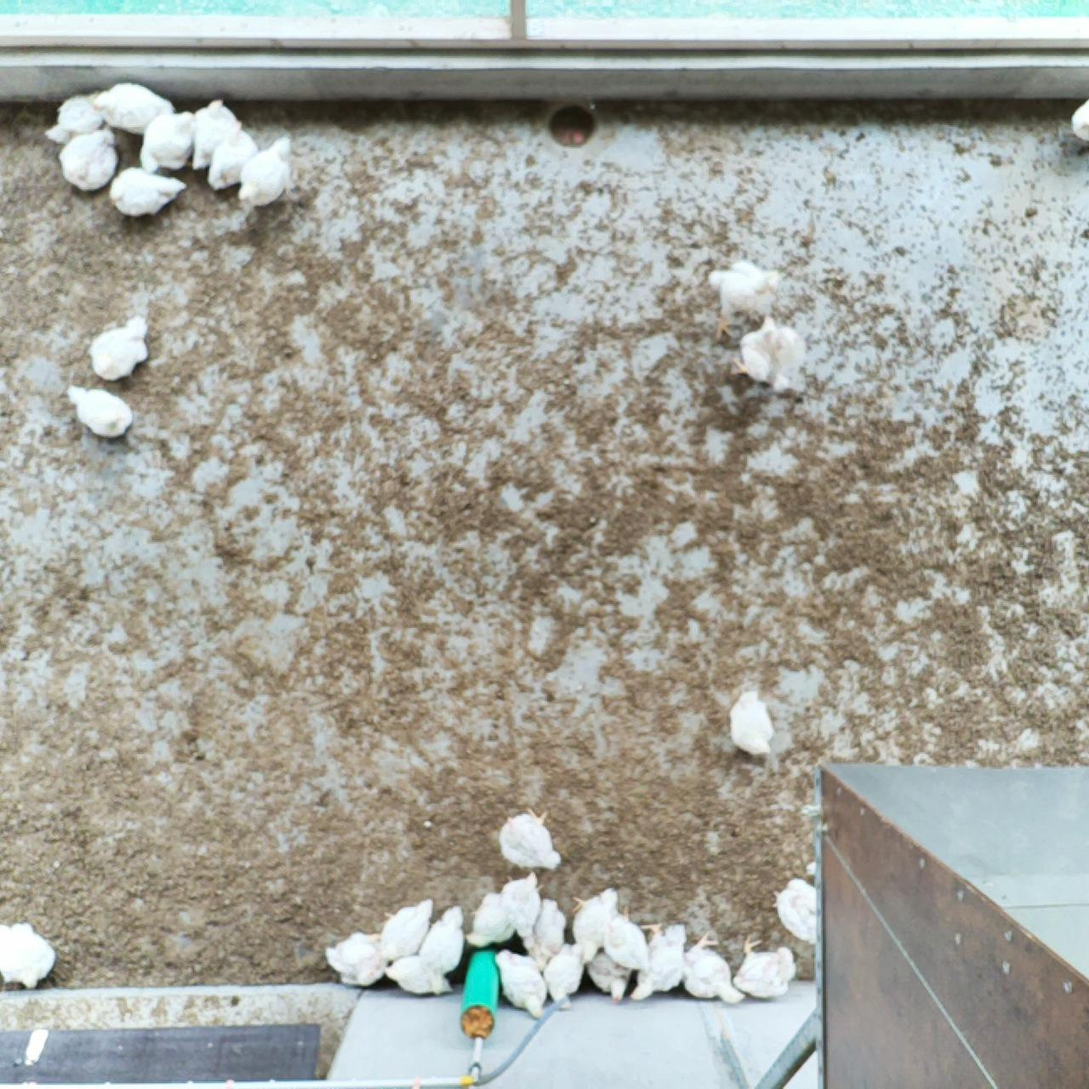chicken: (706, 254, 787, 343), (727, 308, 808, 395), (628, 917, 691, 1008), (235, 131, 300, 213), (493, 801, 566, 874), (681, 928, 748, 1006), (90, 77, 177, 137), (732, 931, 801, 1004), (106, 164, 189, 222), (566, 887, 625, 967), (56, 125, 123, 195), (87, 312, 151, 385), (491, 945, 548, 1025), (0, 918, 59, 992), (320, 928, 389, 991), (190, 94, 241, 178), (63, 381, 135, 440), (136, 108, 197, 177), (376, 896, 437, 965), (204, 118, 260, 193), (725, 683, 781, 758), (413, 903, 470, 976), (768, 872, 821, 950), (43, 83, 106, 146), (382, 949, 457, 1000), (522, 894, 569, 975), (541, 936, 587, 1018), (601, 907, 651, 979), (500, 868, 542, 953), (585, 942, 639, 1006), (462, 890, 514, 952), (1066, 94, 1089, 145)
